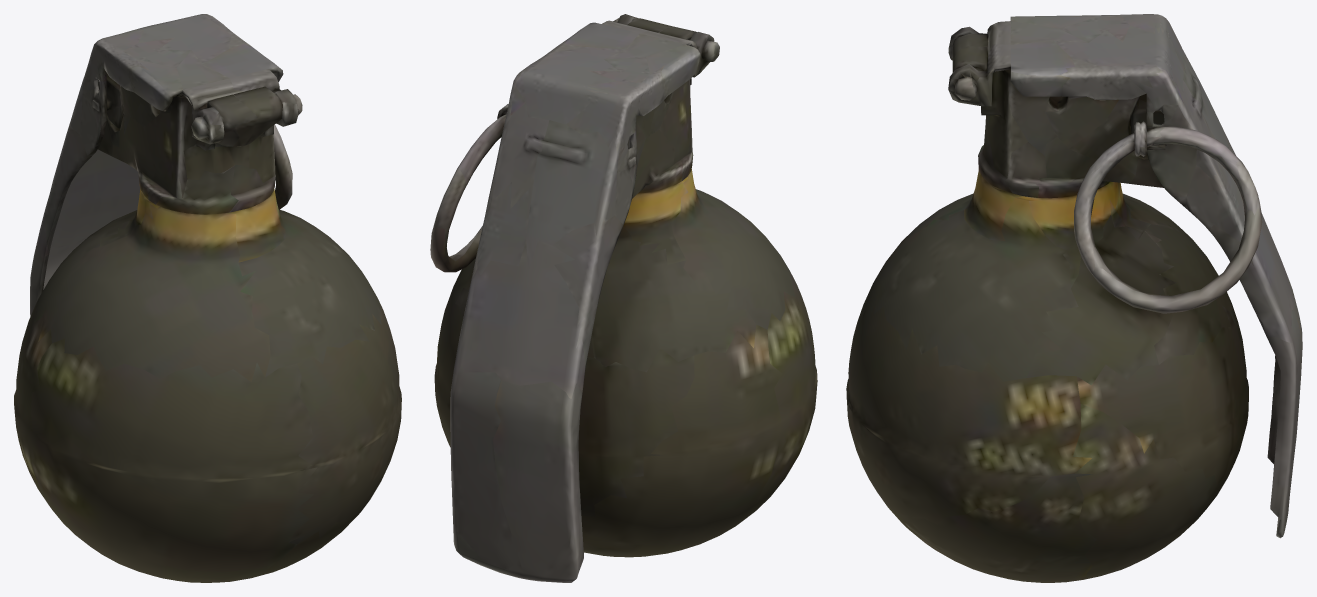
The model's file is frag_grenade.glb.
3 views of the same model, side by side, from view 1: azimuth 30°, elevation 25°; view 2: azimuth 150°, elevation 25°; view 3: azimuth 270°, elevation 25° (orthographic). The views are drawn at different scales.
Visible parts, largest first — view 1: tripo_node_b812bdfc-1c9a-4d72-907e-3b3517be94fa; view 2: tripo_node_b812bdfc-1c9a-4d72-907e-3b3517be94fa; view 3: tripo_node_b812bdfc-1c9a-4d72-907e-3b3517be94fa.
Part boxes in pixels (x1,y1,x2,y2): tripo_node_b812bdfc-1c9a-4d72-907e-3b3517be94fa: (14,14,401,582); tripo_node_b812bdfc-1c9a-4d72-907e-3b3517be94fa: (430,14,817,582); tripo_node_b812bdfc-1c9a-4d72-907e-3b3517be94fa: (846,14,1302,582).
Bounding box in the file's own units: 0.6996 × 0.9808 × 0.7832.
Materials: 1 (1 with a texture image).
